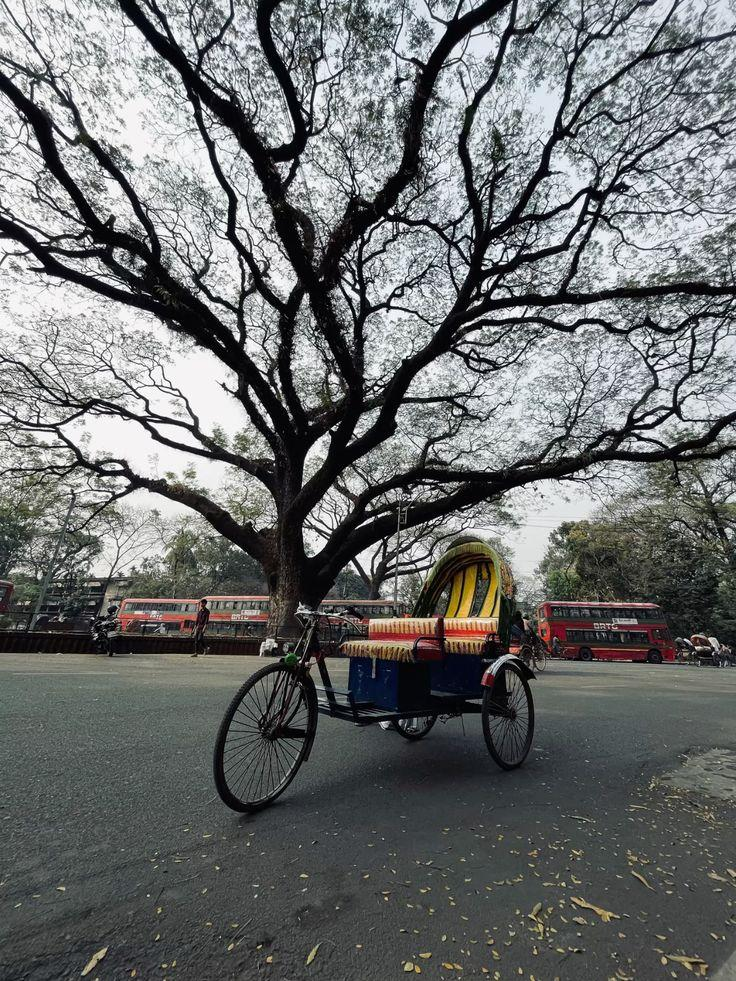Rickshaw: (214, 540, 533, 810)
